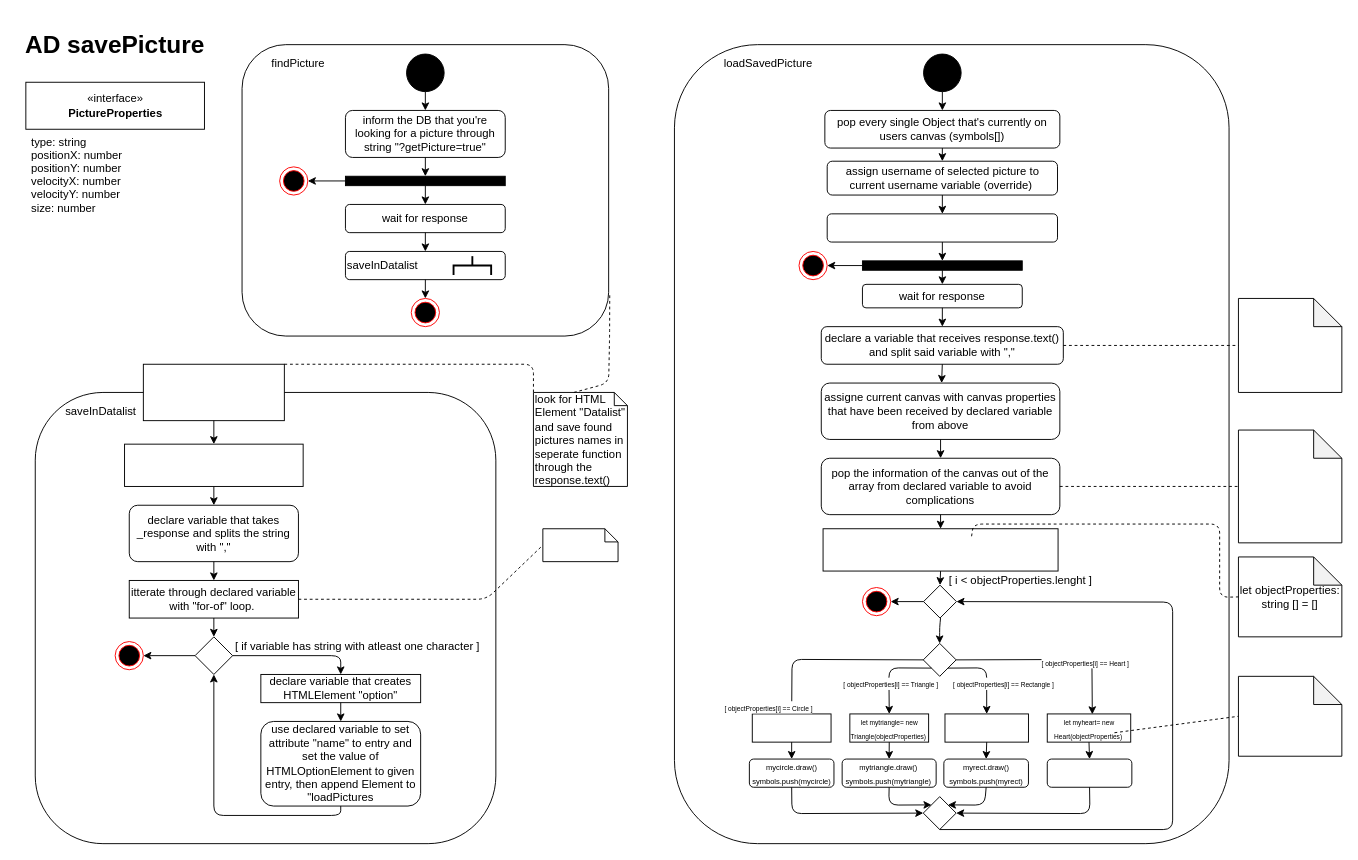
Some shapes in this 1358 by 860 pixel diagram are drawn without their labels. Here are the shapes that lost their labels. From the top down, the centre of each, then its label:
the point at 942,227: send "?findPicture&" + new assigned username to server
the point at 1290,345: so that everything that is being received is sorted
the point at 213,392: _response: string
the point at 213,464: let loadPictures: HTMLDataList getElementByID("loadPictures")
the point at 1290,486: now only Objects that should be pushed onto the canvas are left
the point at 580,545: let entry of response
the point at 940,549: declare string Array variable and let i: number = 0
the point at 791,727: let mycircle = new Circle(objectProperties)
the point at 986,727: let myrect= new Rectangle(objectProperties)
the point at 1290,715: only the needed information
the point at 1089,772: myheart.draw() symbols.push(myheart)
